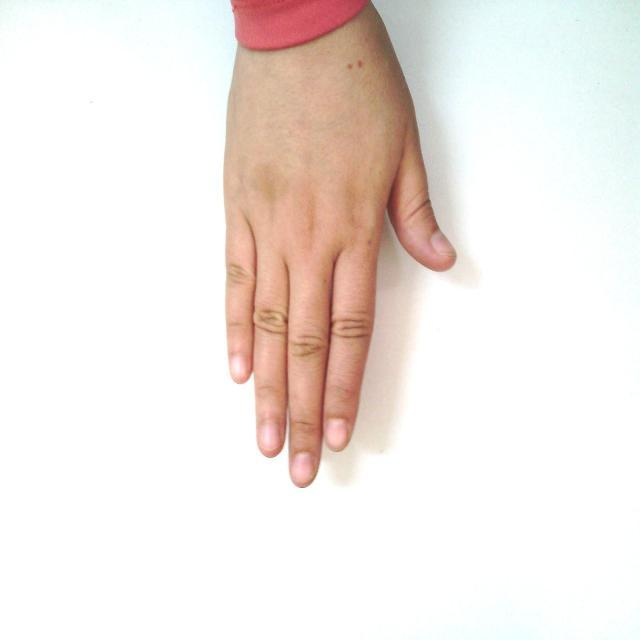Fingernail: (292, 453, 314, 481), (327, 419, 347, 447), (432, 232, 454, 256), (260, 423, 280, 449), (231, 357, 247, 377)
